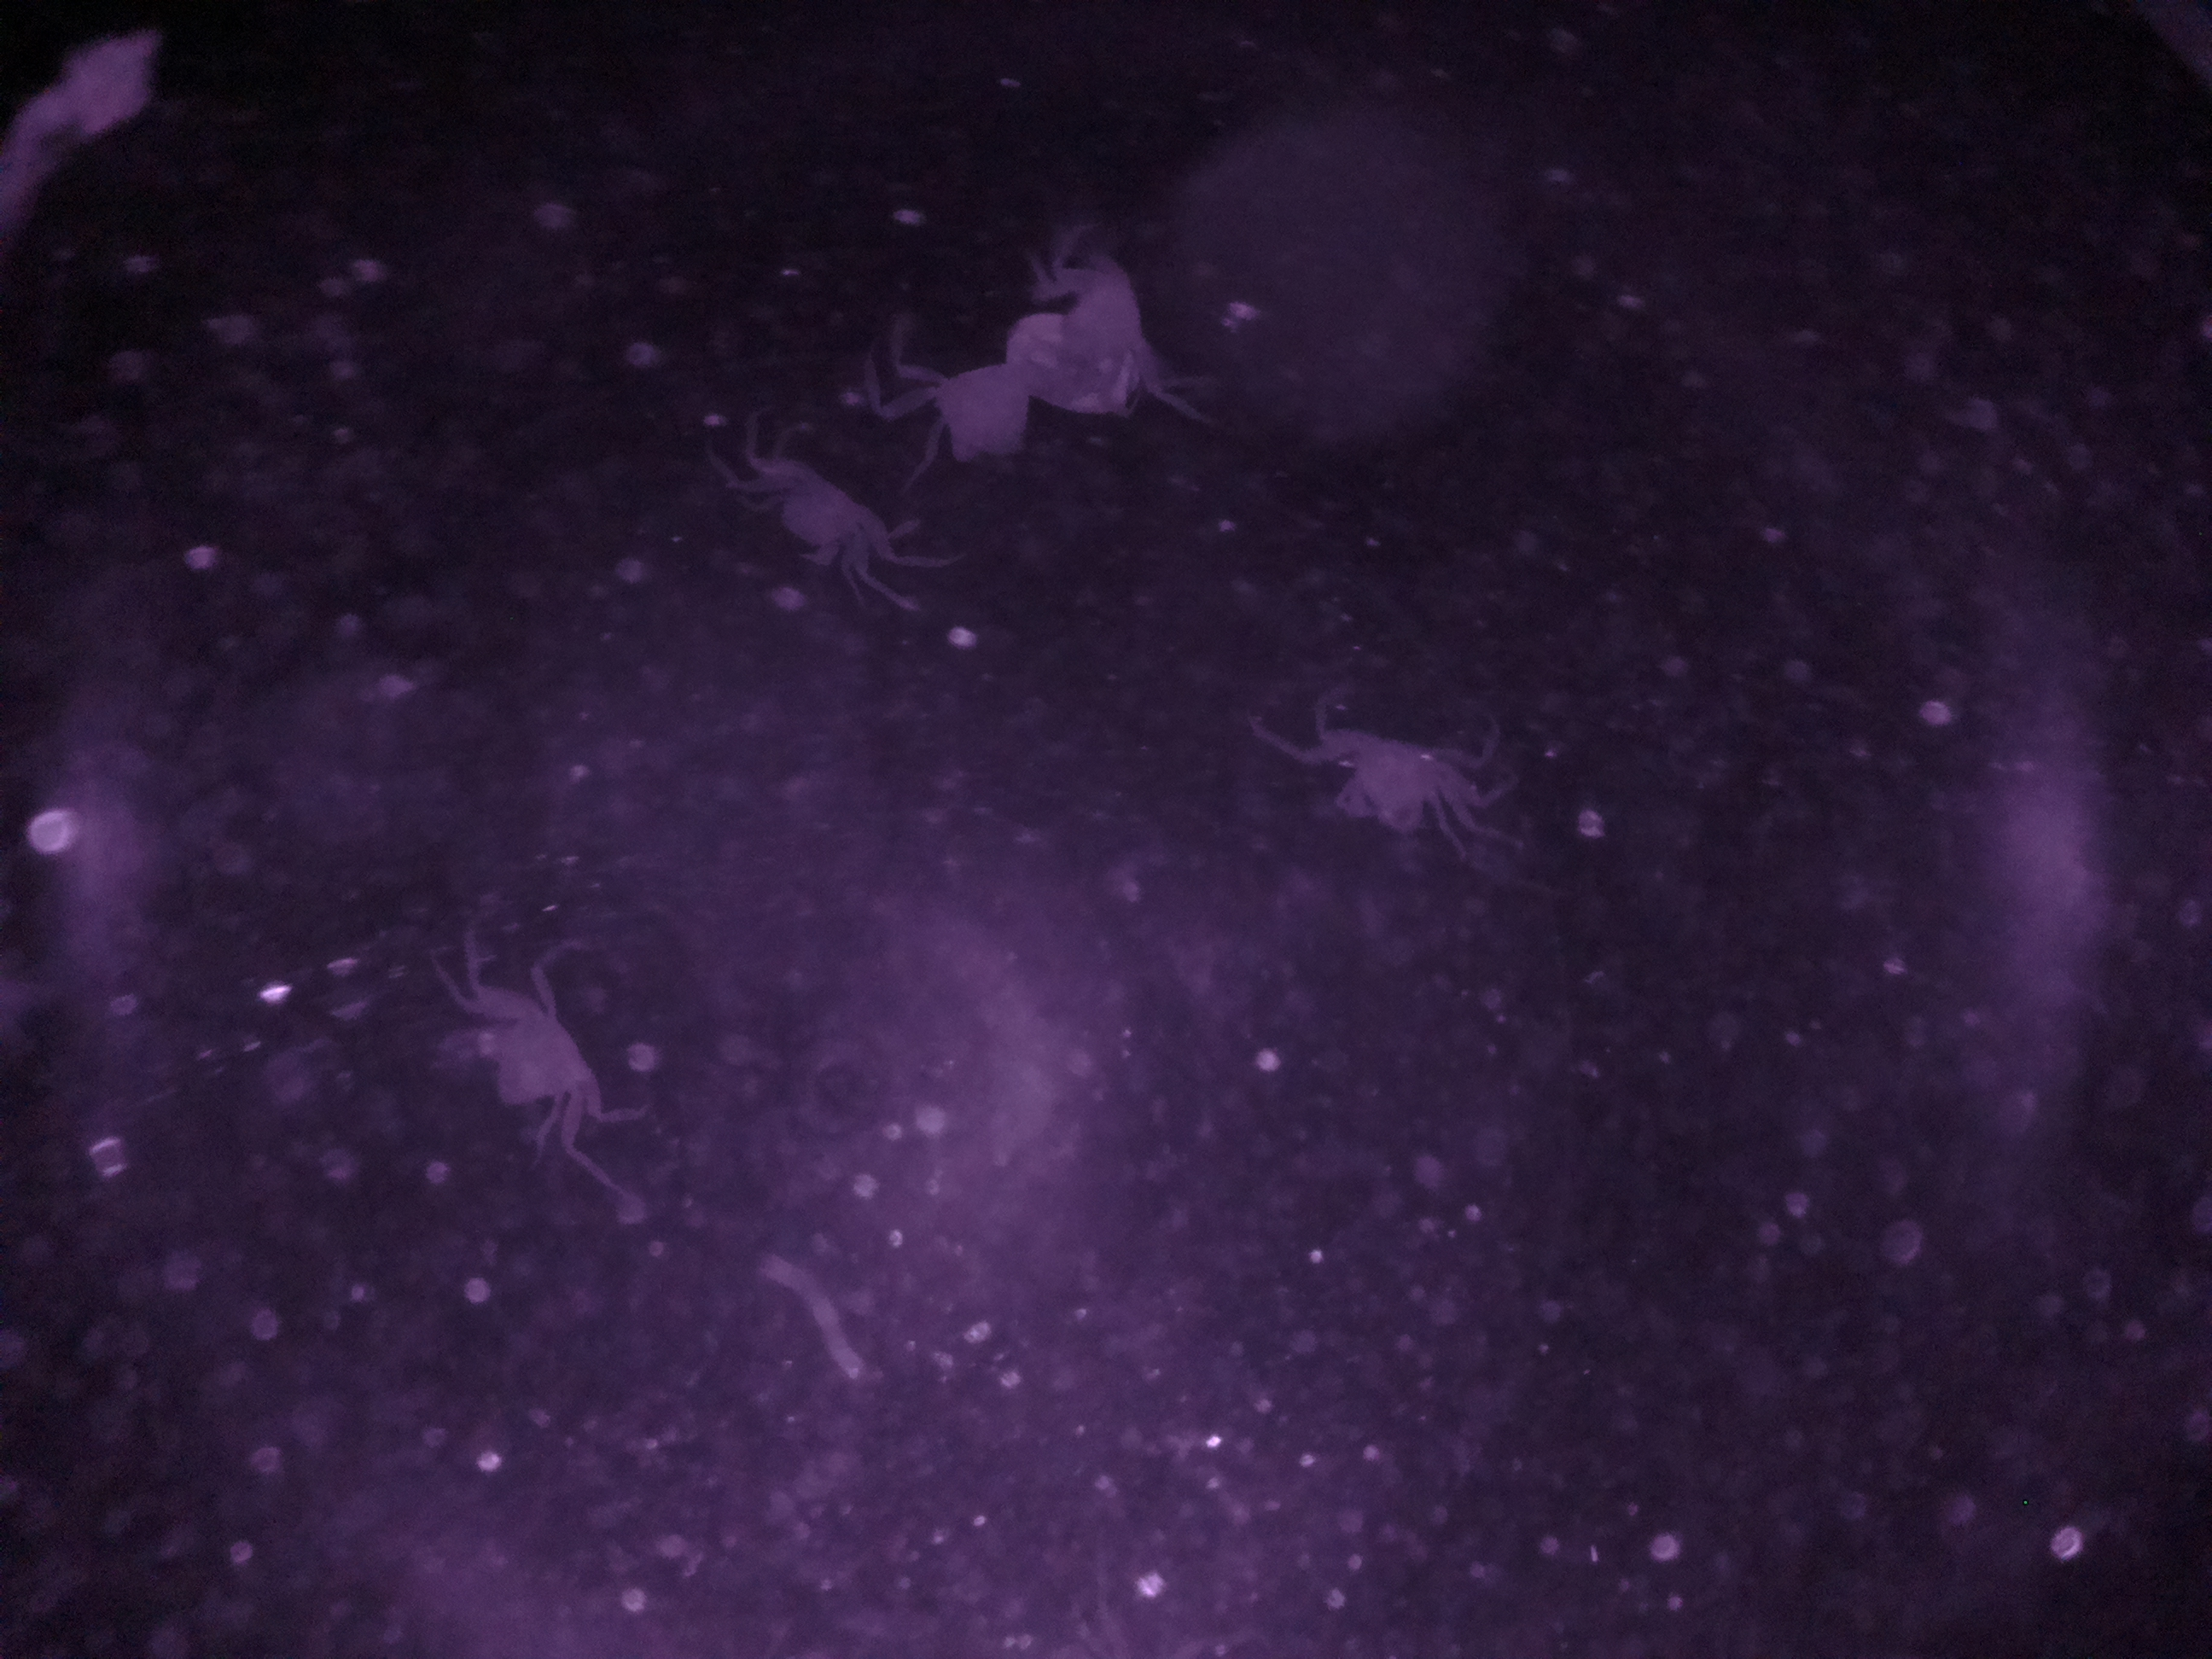Crab: (1251, 662, 1503, 875), (719, 410, 935, 612), (469, 948, 648, 1171)
